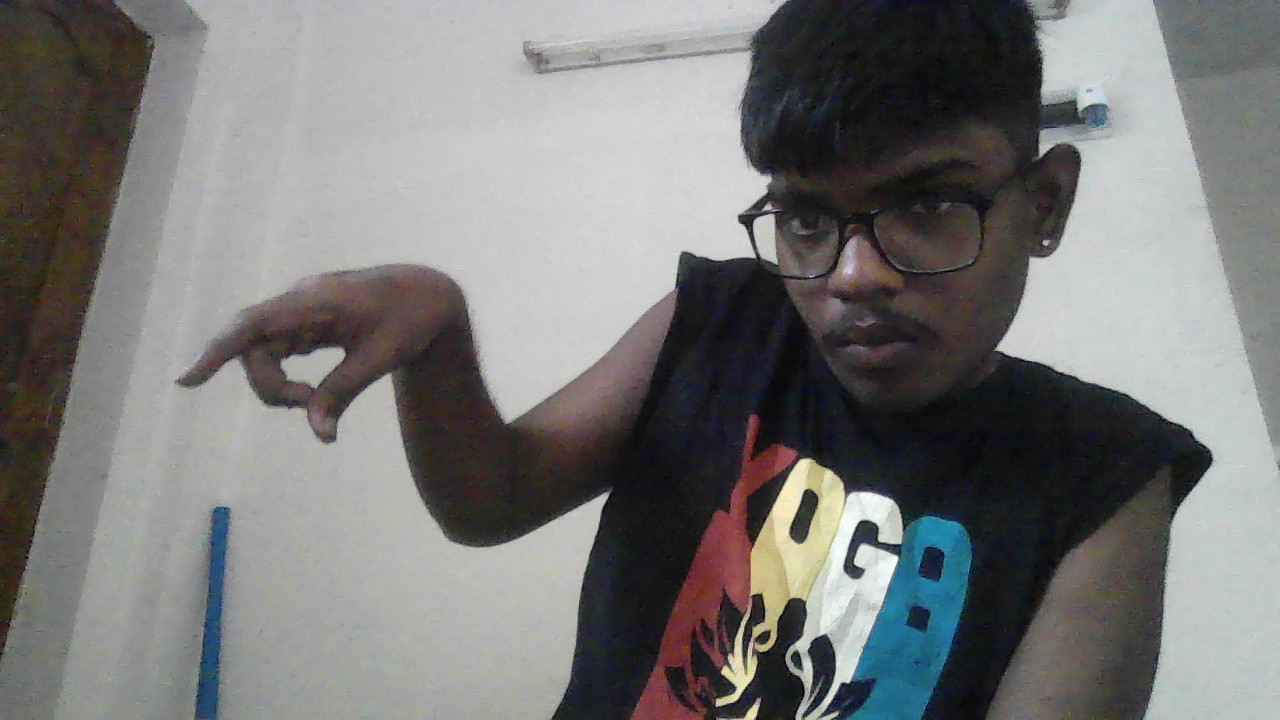Q: (174, 264, 459, 444)
